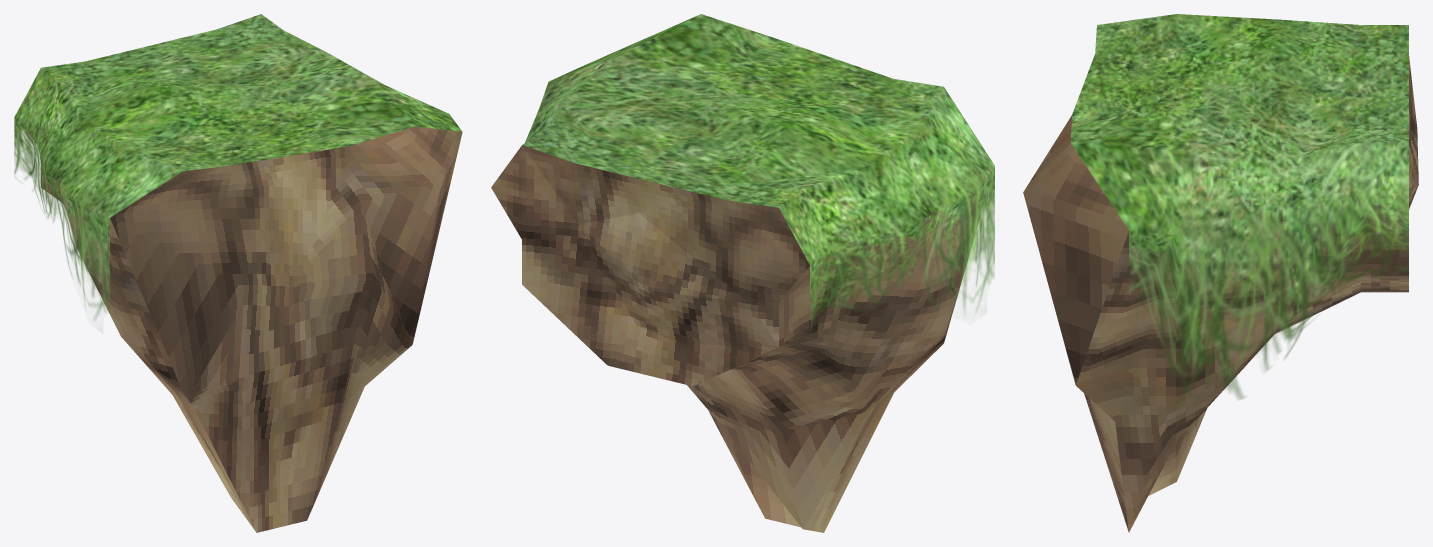
The picture shows the model from 3 angles, left to right: view 1: azimuth 30°, elevation 25°; view 2: azimuth 150°, elevation 25°; view 3: azimuth 270°, elevation 25°; orthographic projection. The views are drawn at different scales.
Visible parts, largest first — view 1: objStart, start_grass; view 2: objStart, start_grass; view 3: start_grass, objStart.
Part boxes in pixels (bbox=[...]): objStart: bbox=[25, 114, 462, 532]; start_grass: bbox=[14, 14, 462, 320]; objStart: bbox=[491, 145, 980, 532]; start_grass: bbox=[522, 14, 994, 334]; start_grass: bbox=[1070, 14, 1408, 403]; objStart: bbox=[1023, 56, 1418, 532].
Bounding box in the file's own units: 335 × 352 × 283.
Materials: 2 (2 with a texture image).
